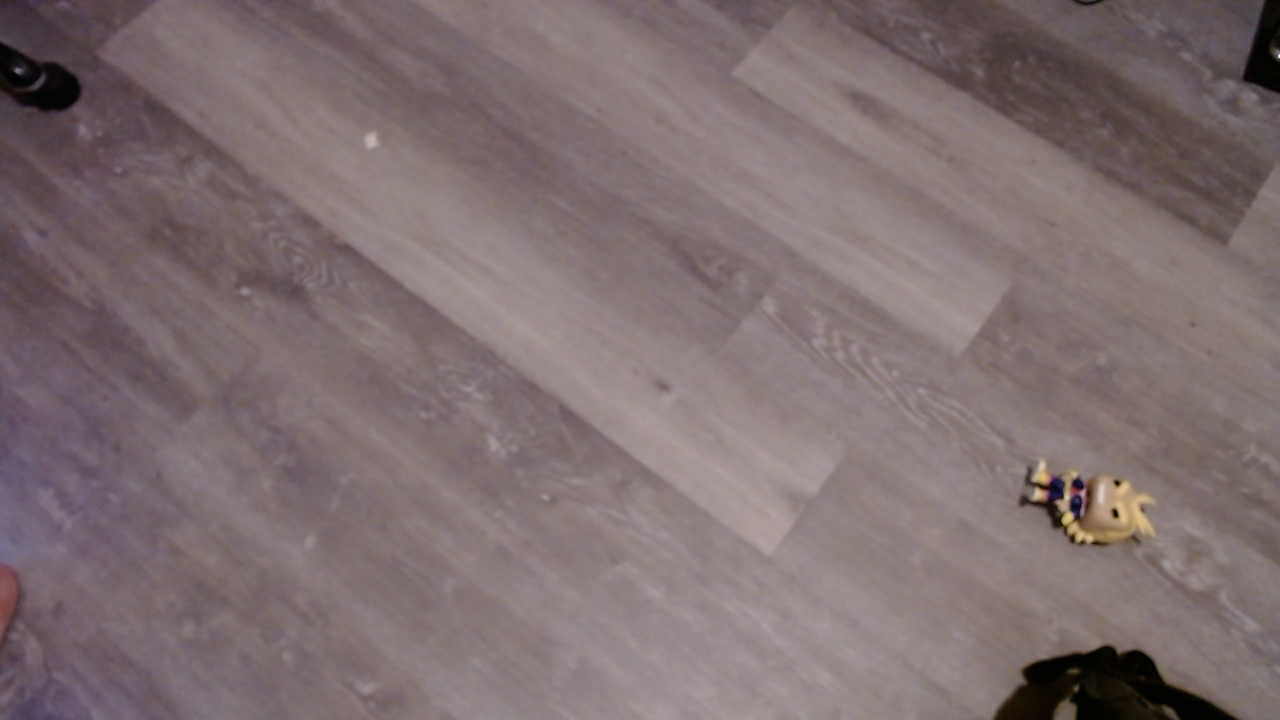all_might: (1019, 456, 1157, 566)
